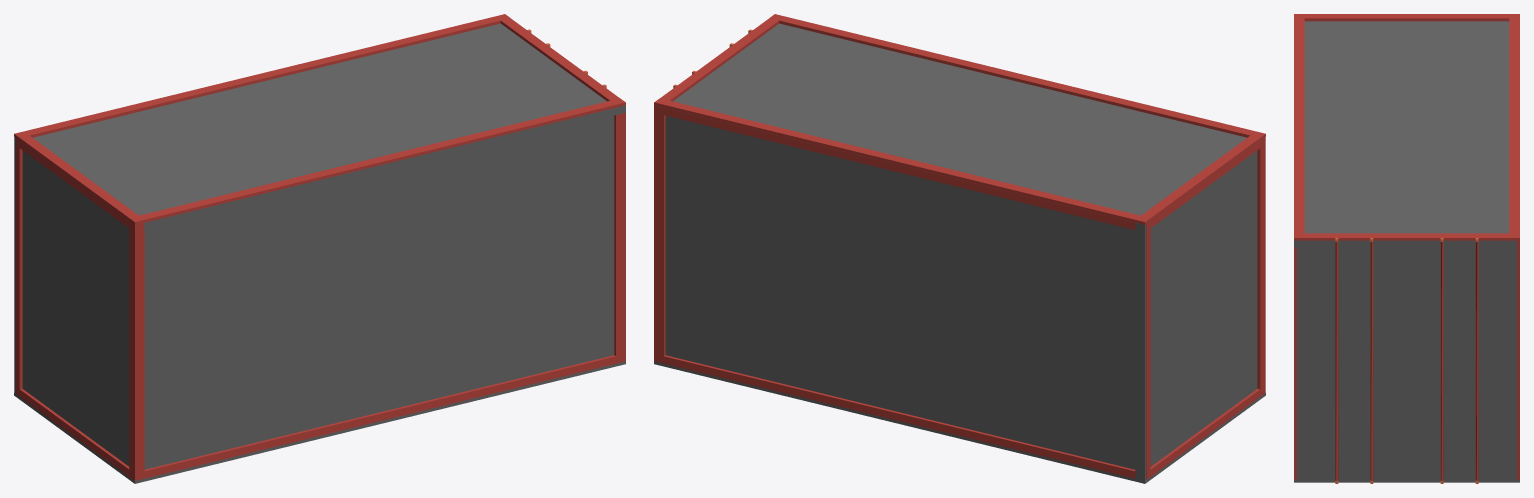
File: Container(2).glb
3 renders of one model, left to right at view 1: azimuth 30°, elevation 25°; view 2: azimuth 150°, elevation 25°; view 3: azimuth 270°, elevation 25°, orthographic. The views are drawn at different scales.
Parts seen in each view (by area): view 1: Root; view 2: Root; view 3: Root.
Boxes of the visible parts, x1,y1,x2,y2 form: Root: (14,14,625,483); Root: (654,14,1265,483); Root: (1294,14,1519,483).
Size of the model in its own units: 3.52 by 1.78 by 1.49.
